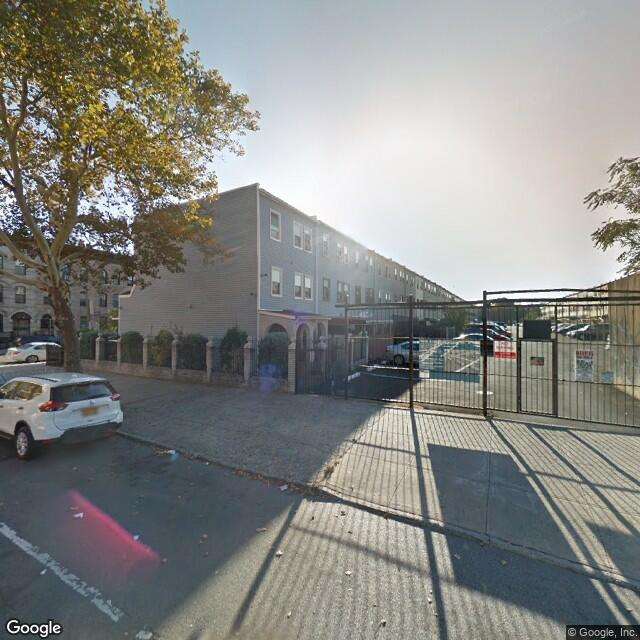litter: (153, 447, 181, 460)
